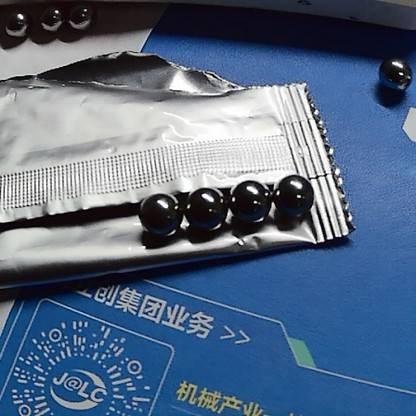ironball: (176, 177, 231, 240), (266, 167, 313, 225), (228, 170, 276, 223), (369, 52, 415, 105), (137, 187, 177, 242), (0, 6, 35, 45), (64, 2, 98, 34), (35, 6, 69, 36)
